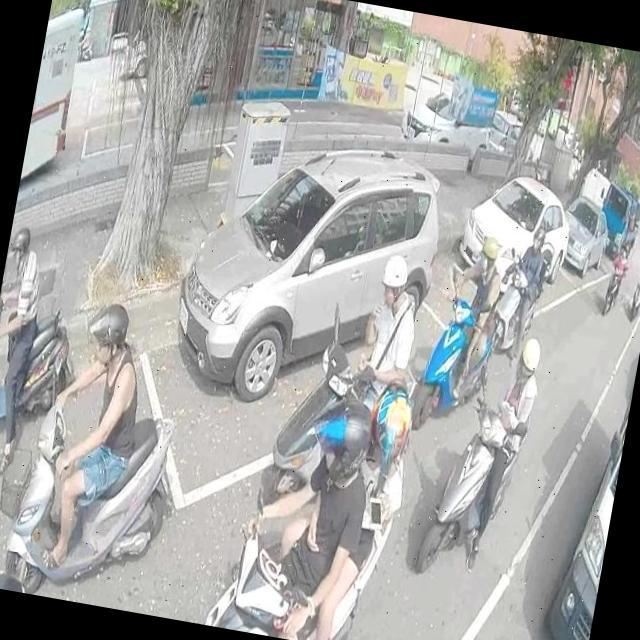person: (214, 372, 385, 640), (21, 286, 158, 586), (265, 375, 417, 640), (455, 322, 544, 576), (0, 222, 57, 469), (434, 221, 509, 402), (349, 251, 426, 418), (498, 222, 556, 362), (0, 557, 35, 593), (608, 245, 630, 297), (78, 26, 94, 56), (633, 250, 640, 301)
